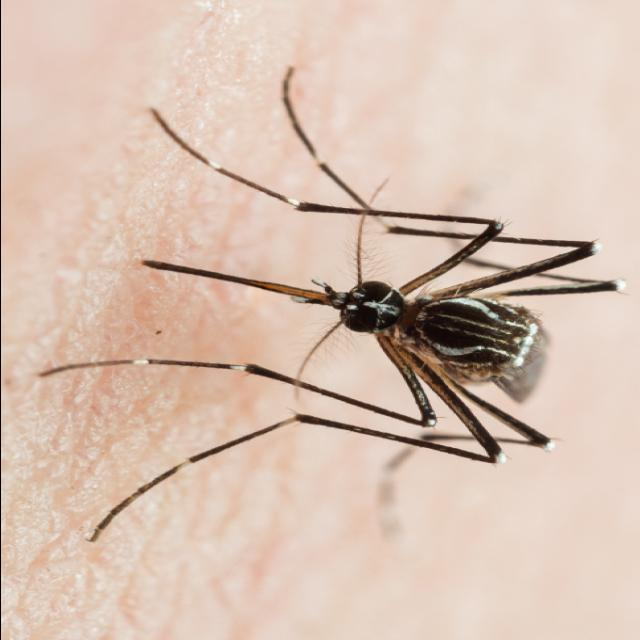Mosquito: (35, 125, 613, 487)
